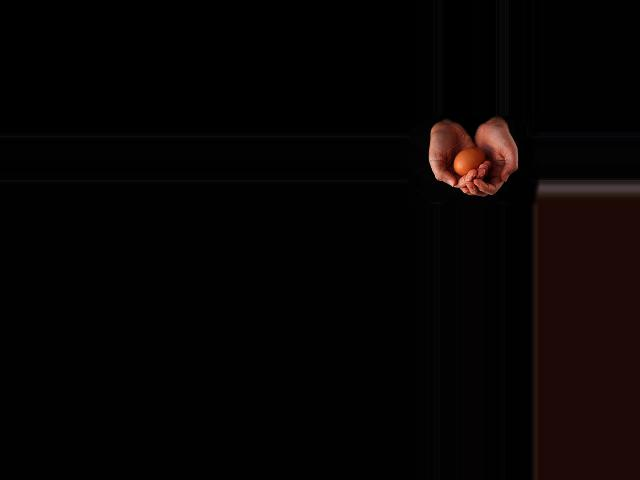egg: (453, 147, 487, 175)
